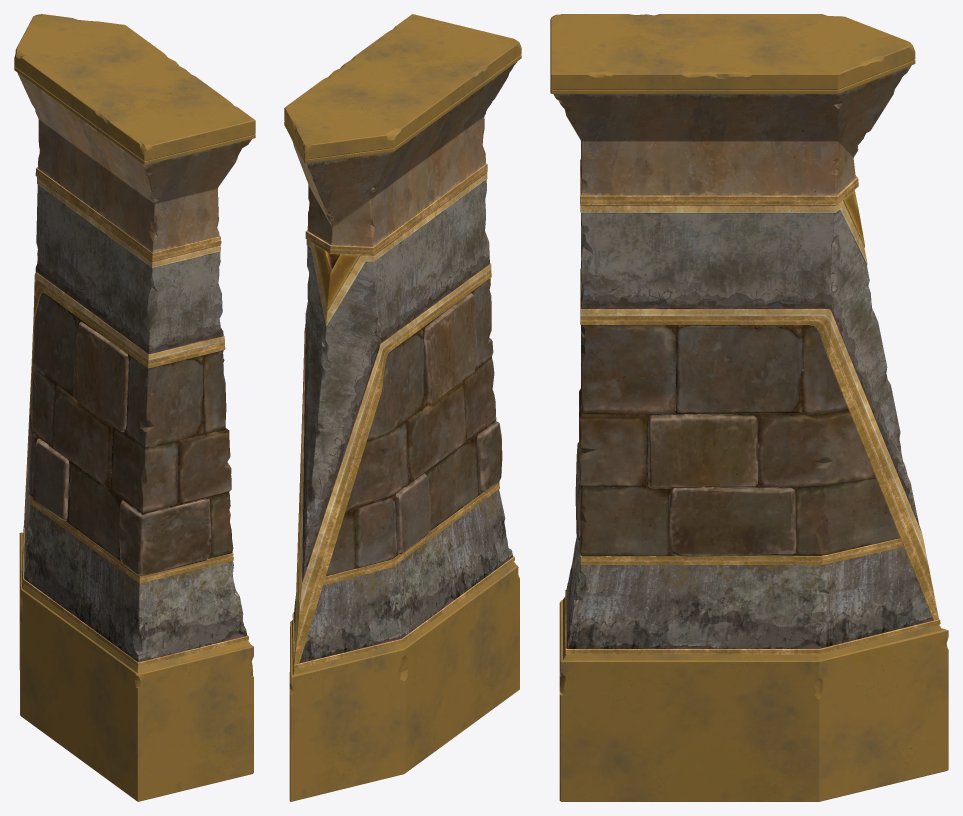
The picture shows the model from 3 angles, left to right: view 1: azimuth 30°, elevation 25°; view 2: azimuth 150°, elevation 25°; view 3: azimuth 270°, elevation 25°; orthographic projection. The views are drawn at different scales.
Visible parts, largest first — view 1: SM_DK_12m_Pillar_02_LOD0; view 2: SM_DK_12m_Pillar_02_LOD0; view 3: SM_DK_12m_Pillar_02_LOD0.
Boxes of the visible parts, x1=… form: SM_DK_12m_Pillar_02_LOD0: x1=14, y1=14, x2=255, y2=801; SM_DK_12m_Pillar_02_LOD0: x1=284, y1=14, x2=521, y2=801; SM_DK_12m_Pillar_02_LOD0: x1=550, y1=14, x2=948, y2=801.
Bounding box in the file's own units: 2.3 × 12.35 × 6.13.
Materials: 6 (6 with a texture image).
